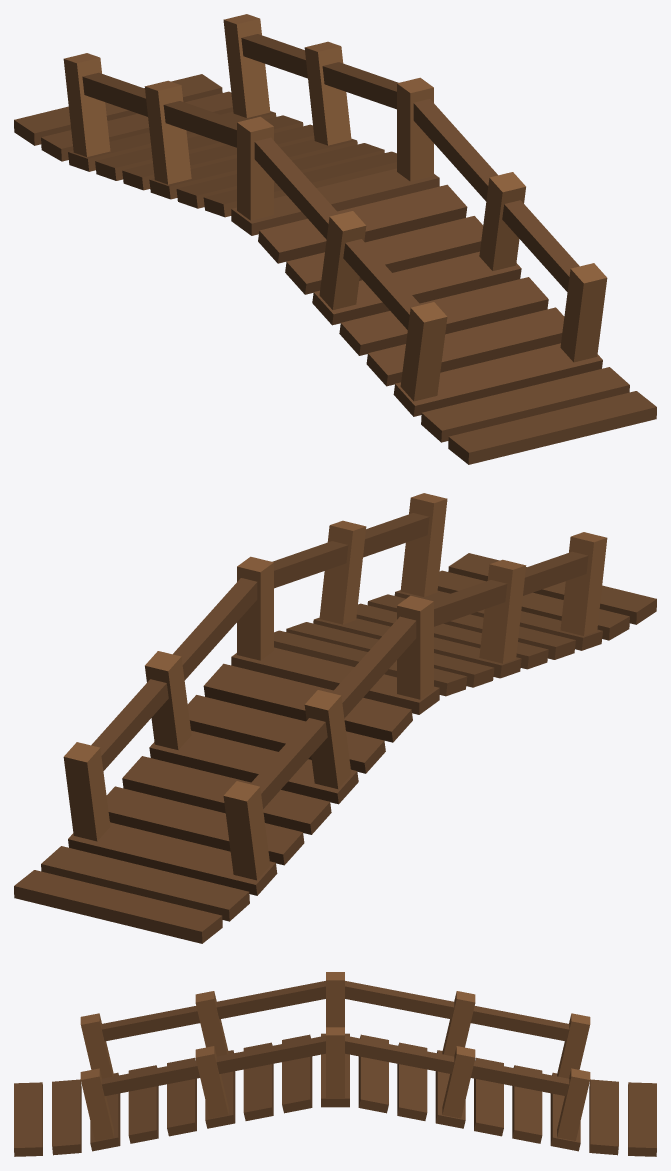
File: Bridge_1_Light_Brown.fbx
The picture shows the model from 3 angles, top to bottom: view 1: azimuth 30°, elevation 25°; view 2: azimuth 150°, elevation 25°; view 3: azimuth 270°, elevation 25°; orthographic projection. The views are drawn at different scales.
Parts seen in each view (by area): view 1: Bridge_1_Light_Brown_Part_1, Bridge_1_Light_Brown_Part_3, Bridge_1_Light_Brown_Part_4, Bridge_1_Light_Brown_Part_2; view 2: Bridge_1_Light_Brown_Part_2, Bridge_1_Light_Brown_Part_3, Bridge_1_Light_Brown_Part_4, Bridge_1_Light_Brown_Part_1; view 3: Bridge_1_Light_Brown_Part_4, Bridge_1_Light_Brown_Part_3, Bridge_1_Light_Brown_Part_2, Bridge_1_Light_Brown_Part_1.
Part boxes in pixels (box(x1,y1,x2,y2)): Bridge_1_Light_Brown_Part_1: box(241, 174, 656, 464); Bridge_1_Light_Brown_Part_3: box(63, 53, 447, 401); Bridge_1_Light_Brown_Part_4: box(223, 14, 607, 362); Bridge_1_Light_Brown_Part_2: box(14, 74, 403, 227); Bridge_1_Light_Brown_Part_2: box(14, 653, 429, 943); Bridge_1_Light_Brown_Part_3: box(223, 532, 607, 880); Bridge_1_Light_Brown_Part_4: box(63, 493, 447, 841); Bridge_1_Light_Brown_Part_1: box(267, 553, 656, 706); Bridge_1_Light_Brown_Part_4: box(80, 1027, 590, 1140); Bridge_1_Light_Brown_Part_3: box(80, 972, 590, 1078); Bridge_1_Light_Brown_Part_2: box(335, 1033, 656, 1156); Bridge_1_Light_Brown_Part_1: box(14, 1033, 335, 1156).
Size of the model in its own units: 400 by 347 by 1676.
